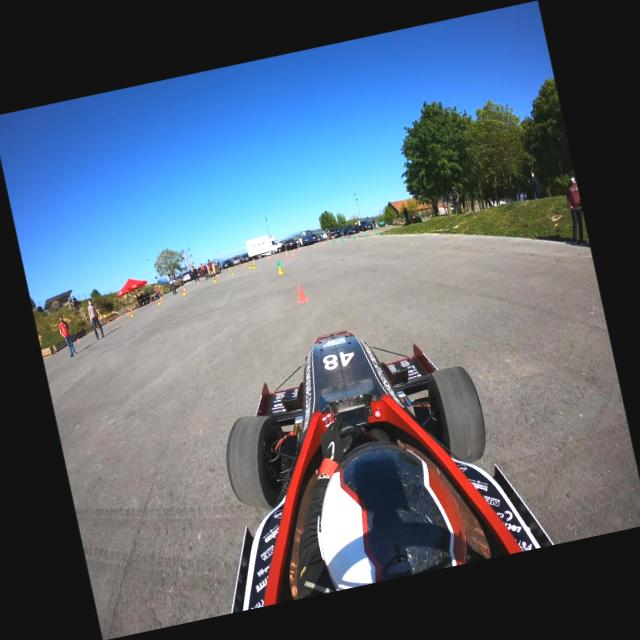orange_cone: (294, 284, 308, 303), (159, 296, 163, 302), (284, 251, 288, 257), (76, 336, 80, 342), (296, 246, 300, 252), (304, 245, 308, 251), (313, 242, 317, 248), (126, 311, 130, 316), (197, 280, 200, 286), (182, 286, 185, 292), (216, 273, 219, 278), (95, 327, 98, 332), (116, 314, 119, 318), (291, 252, 294, 256), (107, 320, 110, 324), (321, 242, 324, 246), (150, 299, 152, 303), (268, 256, 270, 260), (242, 264, 244, 268)
unknown_cone: (275, 258, 281, 268), (376, 230, 381, 238), (340, 236, 344, 242), (331, 238, 335, 244), (352, 234, 356, 240), (365, 233, 368, 238)
yellow_cone: (276, 264, 283, 274), (156, 298, 160, 304), (248, 262, 252, 268), (182, 288, 186, 294), (252, 262, 256, 268), (230, 268, 234, 274), (212, 276, 216, 282), (235, 264, 238, 268), (243, 262, 246, 266), (130, 311, 132, 316)
